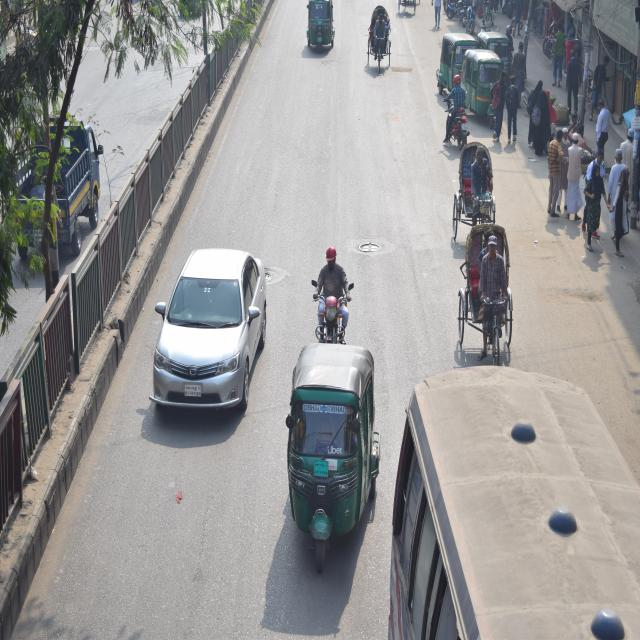car: (153, 244, 277, 419)
motorbike: (314, 276, 352, 351), (439, 84, 469, 147)
pickup-van: (9, 116, 104, 243)
